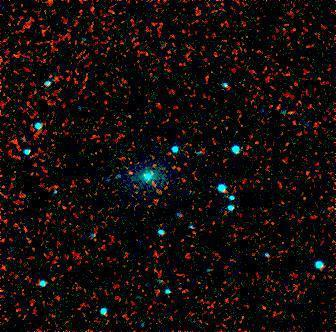star: (117, 161, 147, 191)
